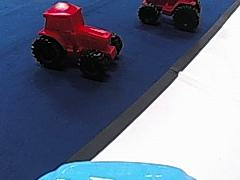Tracktor: (29, 2, 124, 75), (135, 0, 205, 30)
